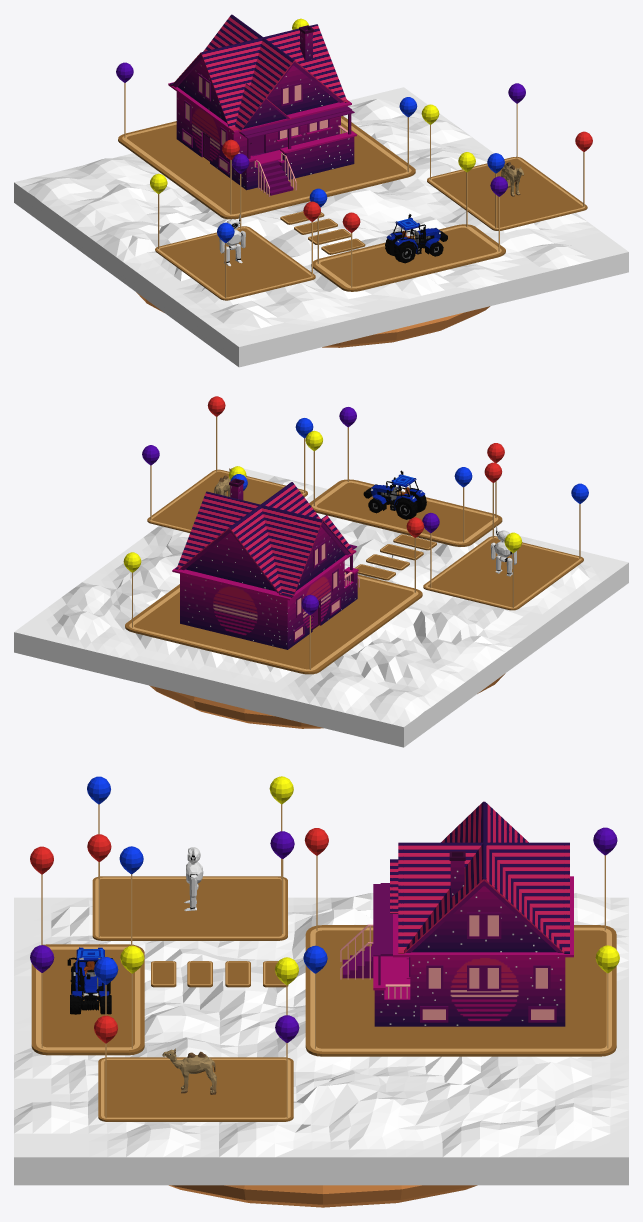
3 renders of one model, top to bottom at view 1: azimuth 30°, elevation 25°; view 2: azimuth 150°, elevation 25°; view 3: azimuth 270°, elevation 25°, orthographic. The views are drawn at different scales.
Visible parts, largest first — view 1: Cube.013, Cube.156, VEHICLES_TRACTOR, UNDERGROUND_PIZZA, OBJRANDOM_PLATZEEBOT; view 2: Cube.013, Cube.156, UNDERGROUND_PIZZA, VEHICLES_TRACTOR, OBJRANDOM_PLATZEEBOT; view 3: Cube.013, Cube.156, UNDERGROUND_PIZZA, VEHICLES_TRACTOR, ANIMAL_CAMELLO, OBJRANDOM_PLATZEEBOT.
Boxes of the visible parts, x1=… form: Cube.013: x1=14, y1=18, x2=628, y2=367; Cube.156: x1=168, y1=14, x2=356, y2=196; VEHICLES_TRACTOR: x1=385, y1=214, x2=447, y2=263; UNDERGROUND_PIZZA: x1=136, y1=292, x2=490, y2=347; OBJRANDOM_PLATZEEBOT: x1=219, y1=214, x2=245, y2=266; Cube.013: x1=14, y1=396, x2=628, y2=747; Cube.156: x1=172, y1=478, x2=359, y2=649; UNDERGROUND_PIZZA: x1=149, y1=673, x2=505, y2=728; VEHICLES_TRACTOR: x1=363, y1=470, x2=426, y2=519; OBJRANDOM_PLATZEEBOT: x1=490, y1=525, x2=516, y2=576; Cube.013: x1=14, y1=776, x2=628, y2=1185; Cube.156: x1=340, y1=801, x2=573, y2=1026; UNDERGROUND_PIZZA: x1=169, y1=1185, x2=477, y2=1207; VEHICLES_TRACTOR: x1=67, y1=947, x2=112, y2=1014; ANIMAL_CAMELLO: x1=162, y1=1048, x2=216, y2=1094; OBJRANDOM_PLATZEEBOT: x1=184, y1=847, x2=203, y2=911.
Size of the model in its own units: 4000 by 1899 by 4000.
Materials: 36 (3 with a texture image).
